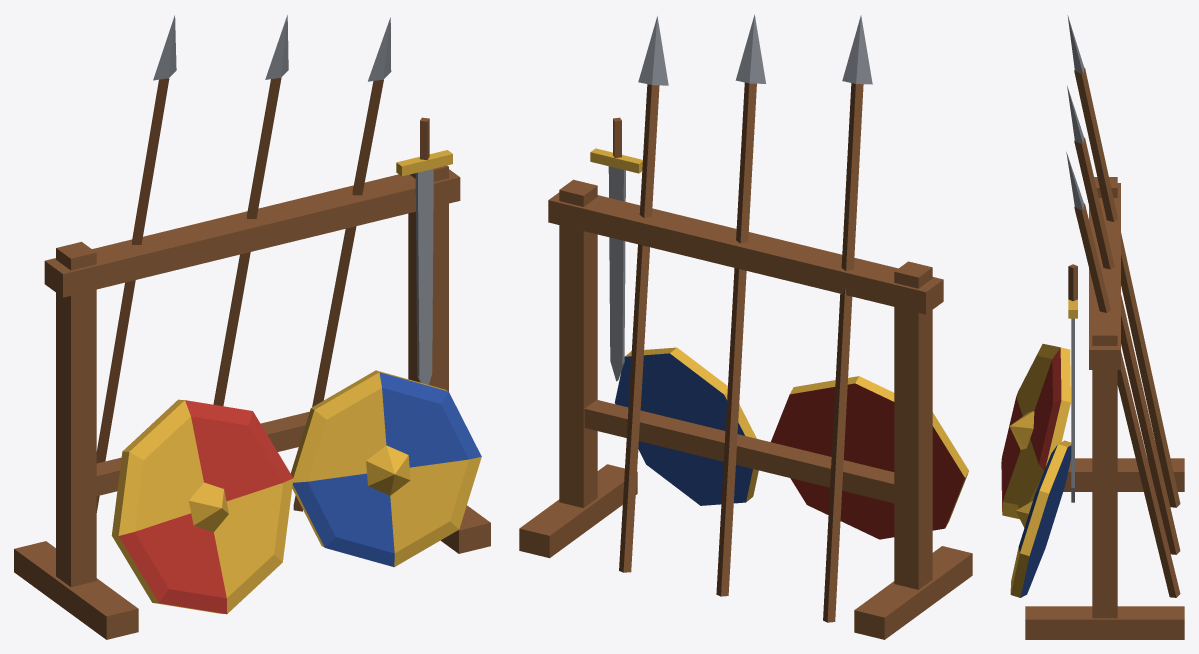
Rendered from weapon_rack.glb.
The picture shows the model from 3 angles, left to right: view 1: azimuth 30°, elevation 25°; view 2: azimuth 150°, elevation 25°; view 3: azimuth 270°, elevation 25°; orthographic projection. The views are drawn at different scales.
Visible parts, largest first — view 1: weapon_rack; view 2: weapon_rack; view 3: weapon_rack.
Boxes of the visible parts, box(x1,y1,x2,y2) form: weapon_rack: box(14, 15, 490, 639); weapon_rack: box(519, 14, 972, 639); weapon_rack: box(1001, 15, 1184, 639).
Size of the model in its own units: 1.24 by 1.75 by 0.5757.
